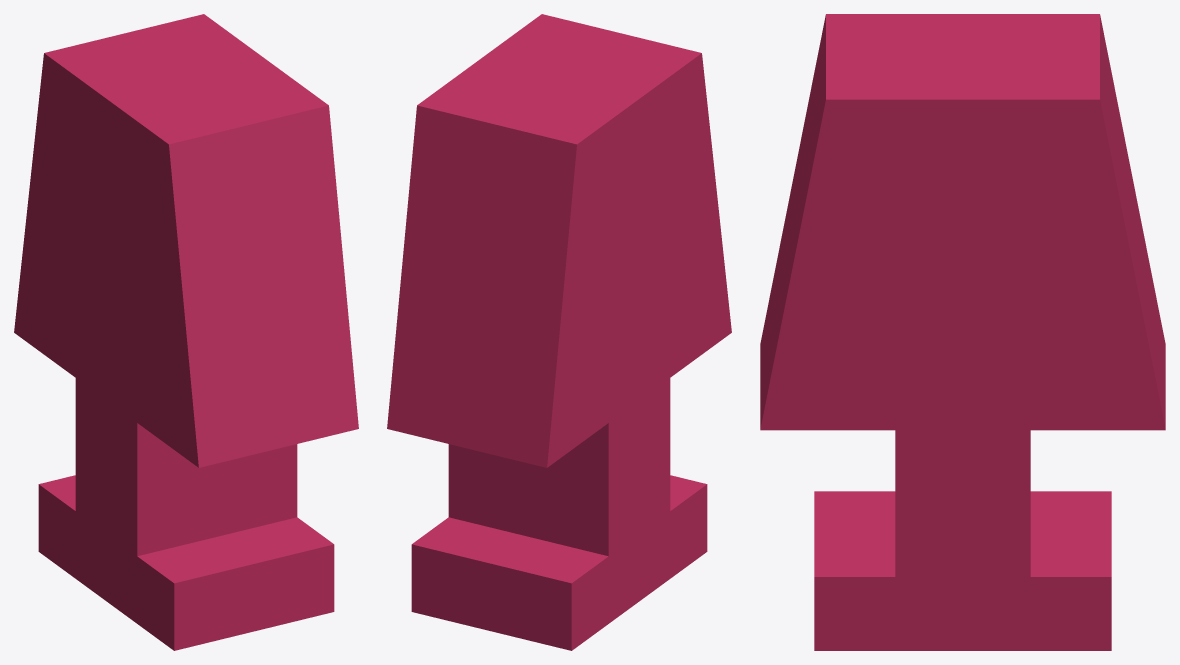
File: lamp2.obj
The picture shows the model from 3 angles, left to right: view 1: azimuth 30°, elevation 25°; view 2: azimuth 150°, elevation 25°; view 3: azimuth 270°, elevation 25°; orthographic projection. The views are drawn at different scales.
Parts seen in each view (by area): view 1: Cube; view 2: Cube; view 3: Cube.
Boxes of the visible parts, bbox=[...] form: Cube: bbox=[14, 14, 358, 650]; Cube: bbox=[387, 14, 731, 650]; Cube: bbox=[760, 14, 1165, 650].
Bounding box in the file's own units: 1 × 3 × 2.
